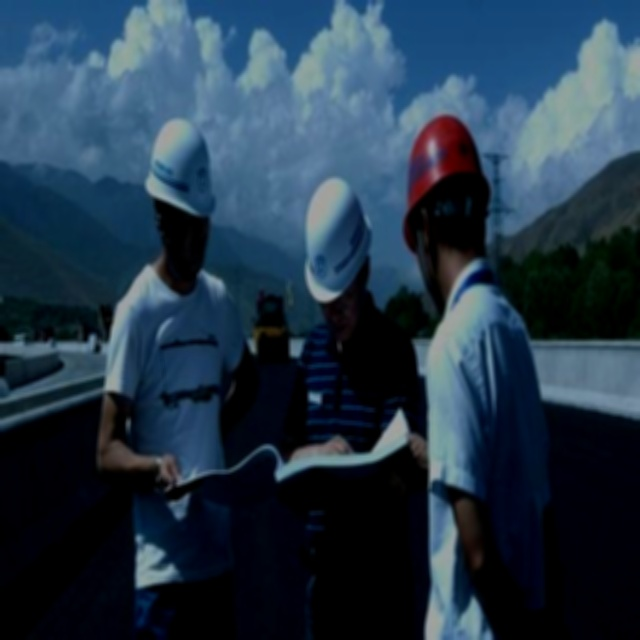Con_Casco: (303, 178, 373, 337)
